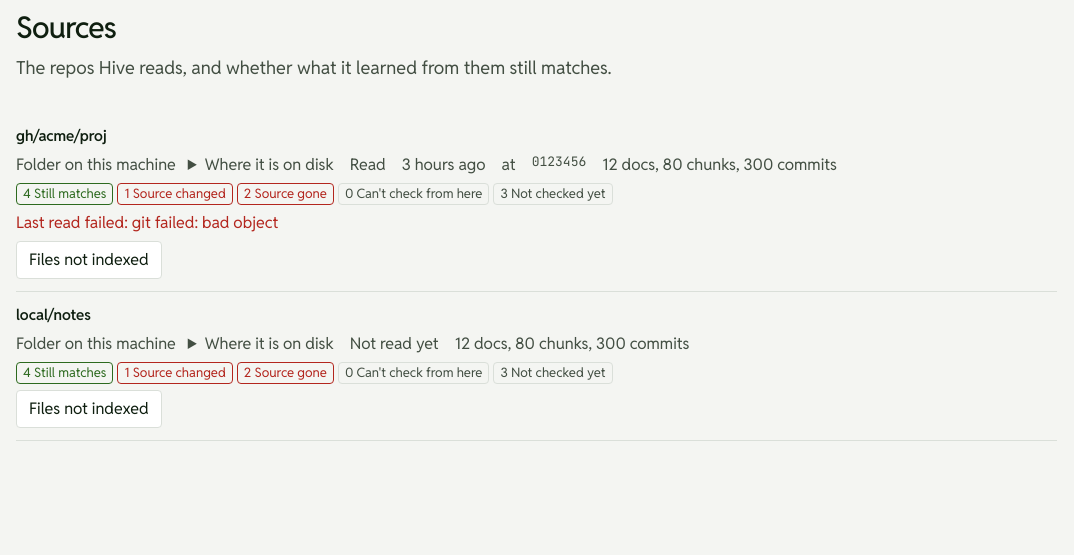
Test case: repos view › expands to the files that weren't indexed, fetching them once
The image size is (1074, 555).
Expected: the heading "gh/acme/proj" is shown, [16,124,107,147]
What coordinates should you click on to do the following:
click the button "Files not indexed" below "gh/acme/proj"
I would click on:
 (89, 260)
Its box is [16,240,162,278].
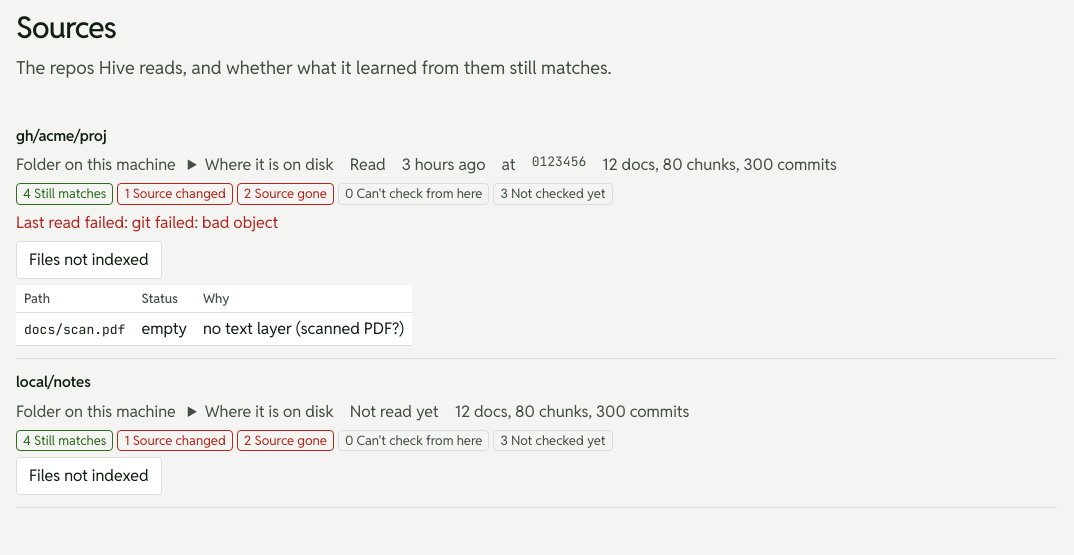
Expected: the heading "gh/acme/proj" is shown, [16,124,107,147]
Result: the text "docs/scan.pdf" is shown at [24,321,125,338]
Result: the text "no text layer (scanned PDF?)" is shown at [195,312,412,346]
What coordinates should you click on to do the following:
click the button "Files not indexed" below "gh/acme/proj"
I would click on:
 (89, 260)
Its box is [16,240,162,278].
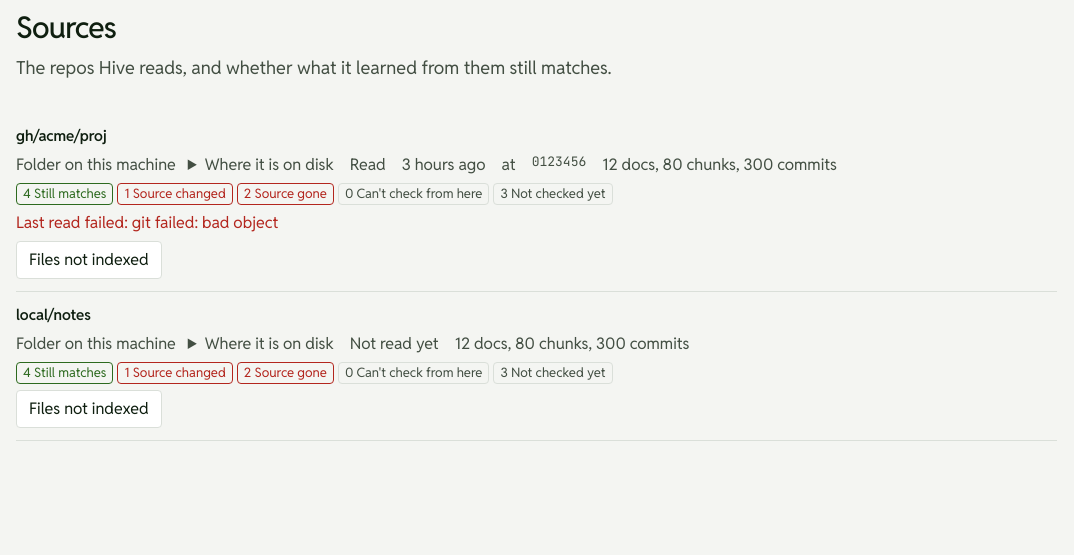
What coordinates should you click on to do the following:
click the button "Files not indexed" below "gh/acme/proj"
I would click on:
 (89, 260)
Its box is [16,240,162,278].
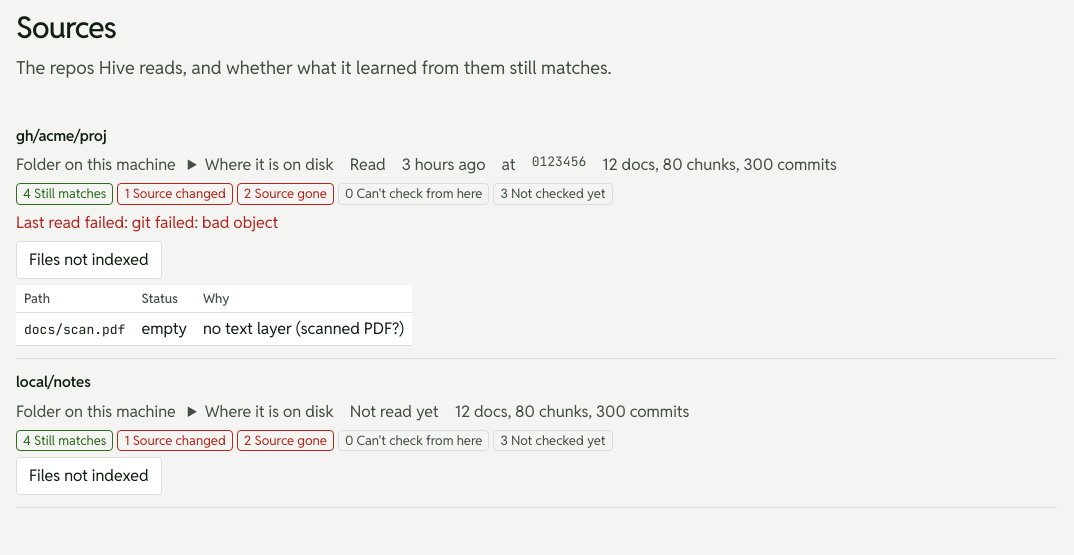
What coordinates should you click on to do the following:
click the button "Files not indexed" below "local/notes"
I would click on:
 (89, 476)
Its box is [16,457,162,495].
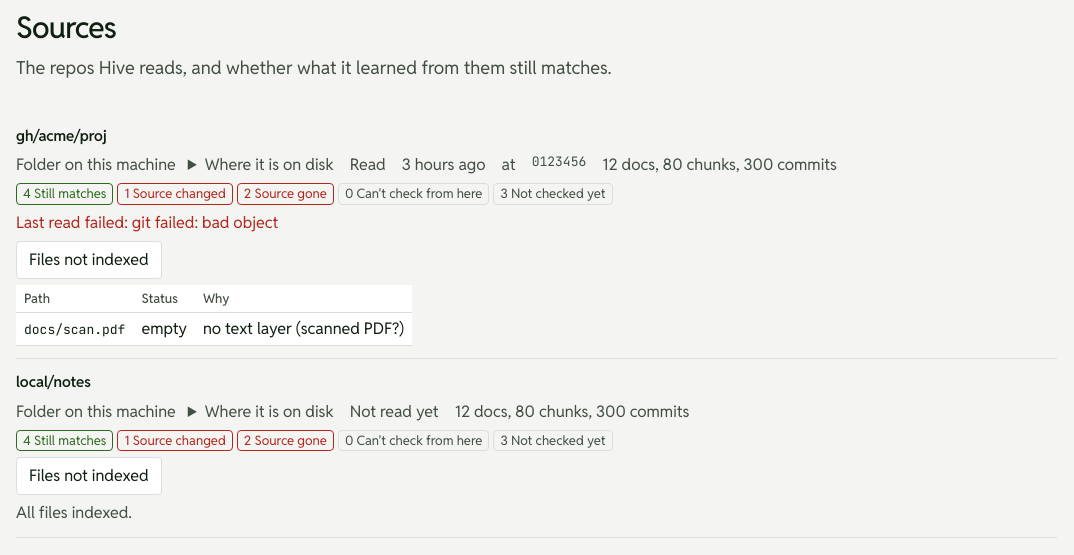
Result: the text "All files indexed." is shown at [16,502,132,523]
